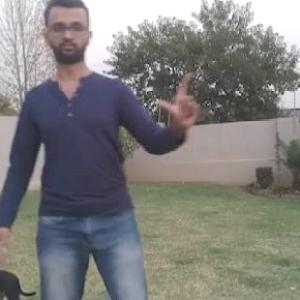land_hand: (152, 70, 212, 132)
